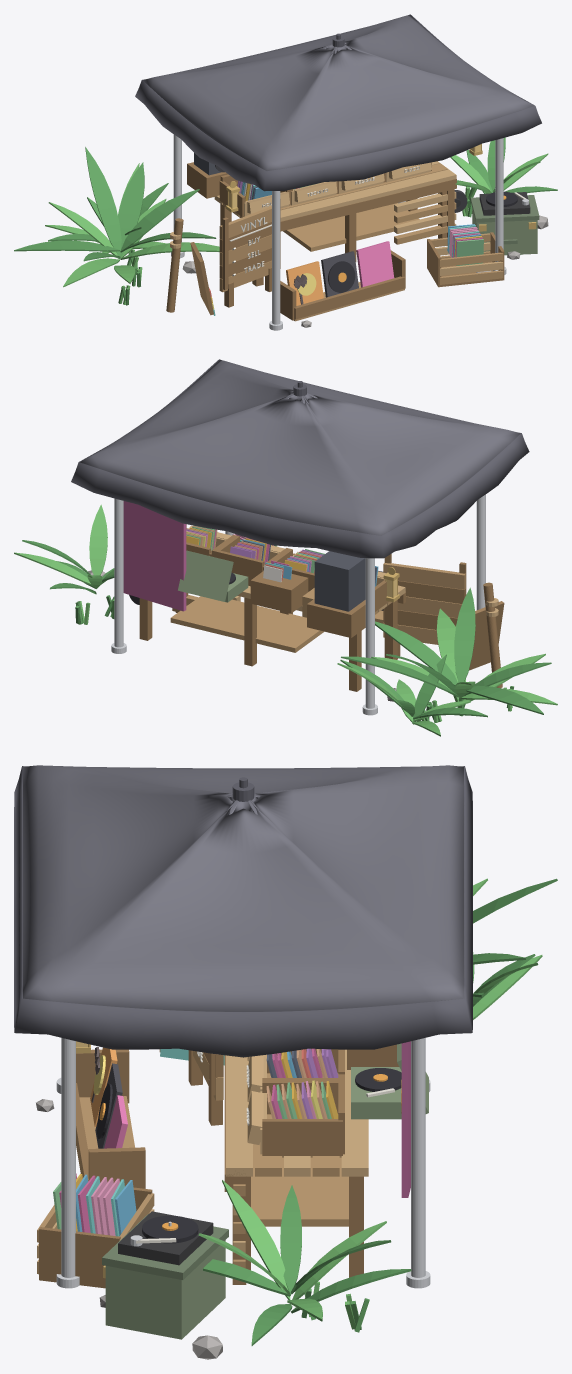
The model's file is negozio_dischi.fbx.
3 renders of one model, top to bottom at view 1: azimuth 30°, elevation 25°; view 2: azimuth 150°, elevation 25°; view 3: azimuth 270°, elevation 25°, orthographic. The views are drawn at different scales.
Parts seen in each view (by area): view 1: Canopy, Valance, LowerShelf, CounterPlank_0, CounterRail, RackLip, Leaf, ArtFrame_2, GCBody, Leaf.010, Pole_0, Leaf.008 (+37 smaller); view 2: Canopy, Valance, TapestryCloth, LowerShelf, SpkLeftLow, DeckLid, BackCrate1, SpkRiser, Pole_3, Leaf.006, Pole_2, SignPlank_4 (+20 smaller); view 3: Canopy, Valance, GCBody, LowerShelf, Pole_1, Pole_3, Bin_DISCO_side.001, CrateSide.001, CounterPlank_0, GCLid, TTBody, RackSide.001 (+22 smaller).
Boxes of the visible parts, x1,y1,x2,y2 form: Canopy: (143,15,534,170); Valance: (135,14,541,191); LowerShelf: (283,203,419,251); CounterPlank_0: (280,169,456,221); CounterRail: (280,178,456,231); RackLip: (294,276,405,319); Leaf: (85,147,121,256); ArtFrame_2: (356,241,394,287); GCBody: (472,209,537,255); Leaf.010: (118,162,144,258); Pole_0: (272,191,280,324); Leaf.008: (120,189,199,251); Canopy: (80,360,520,535); Valance: (71,359,529,558); TapestryCloth: (123,501,186,611); LowerShelf: (170,596,323,652); SpkLeftLow: (314,551,365,611); DeckLid: (178,550,233,601); BackCrate1: (250,571,308,613); SpkRiser: (307,599,365,637); Pole_3: (114,498,123,647); Leaf.006: (454,587,475,682); Pole_2: (365,558,374,708); SignPlank_4: (383,562,465,589); Canopy: (23,765,463,1011); Valance: (14,766,472,1057); GCBody: (105,1240,225,1339); LowerShelf: (251,1144,348,1226); Pole_1: (61,1038,75,1277); Pole_3: (411,1038,425,1277); Bin_DISCO_side.001: (262,1119,342,1155); CrateSide.001: (39,1227,120,1288); CounterPlank_0: (226,1055,252,1176); GCLid: (102,1214,228,1279); TTBody: (118,1211,213,1265); RackSide.001: (88,1147,145,1188).
Size of the model in its own units: 765 by 341 by 405.
